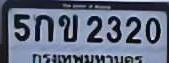0: (145, 16, 159, 43)
2: (86, 14, 101, 42), (125, 16, 140, 42)
3: (106, 14, 120, 42)
5: (13, 12, 29, 40)
A01: (34, 14, 53, 41)
A02: (58, 14, 77, 41)
BKK: (29, 51, 146, 63)
